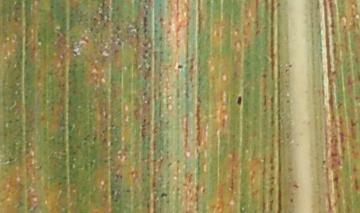tarspot: (141, 14, 149, 35), (109, 188, 118, 203), (349, 116, 359, 129), (235, 94, 243, 107), (158, 190, 168, 200), (6, 154, 16, 164), (175, 63, 185, 72), (291, 182, 300, 192), (329, 69, 337, 79), (158, 15, 165, 25), (146, 64, 153, 73), (320, 157, 327, 166), (288, 196, 295, 204), (124, 187, 132, 194), (116, 40, 123, 47), (114, 25, 121, 32), (286, 62, 293, 69), (284, 98, 291, 105), (261, 72, 267, 80), (142, 89, 148, 97), (157, 34, 163, 42), (109, 140, 115, 148), (91, 16, 98, 22), (54, 31, 61, 37), (158, 49, 165, 55), (275, 2, 281, 8), (143, 48, 149, 54), (48, 4, 54, 10), (105, 5, 111, 10), (143, 9, 148, 15)
